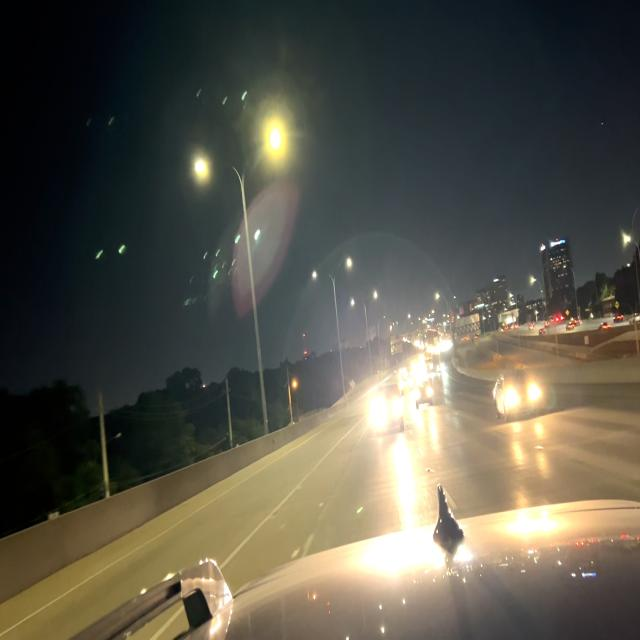back-of-sign: (454, 311, 482, 343), (390, 334, 405, 358)
